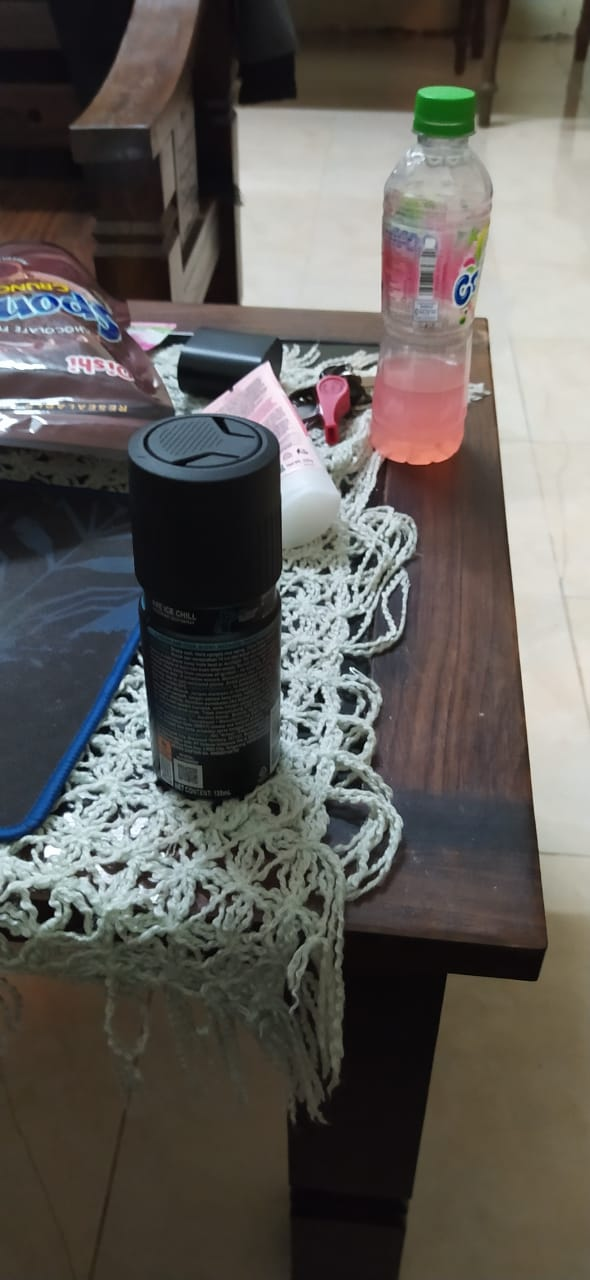axe: (125, 408, 296, 811)
